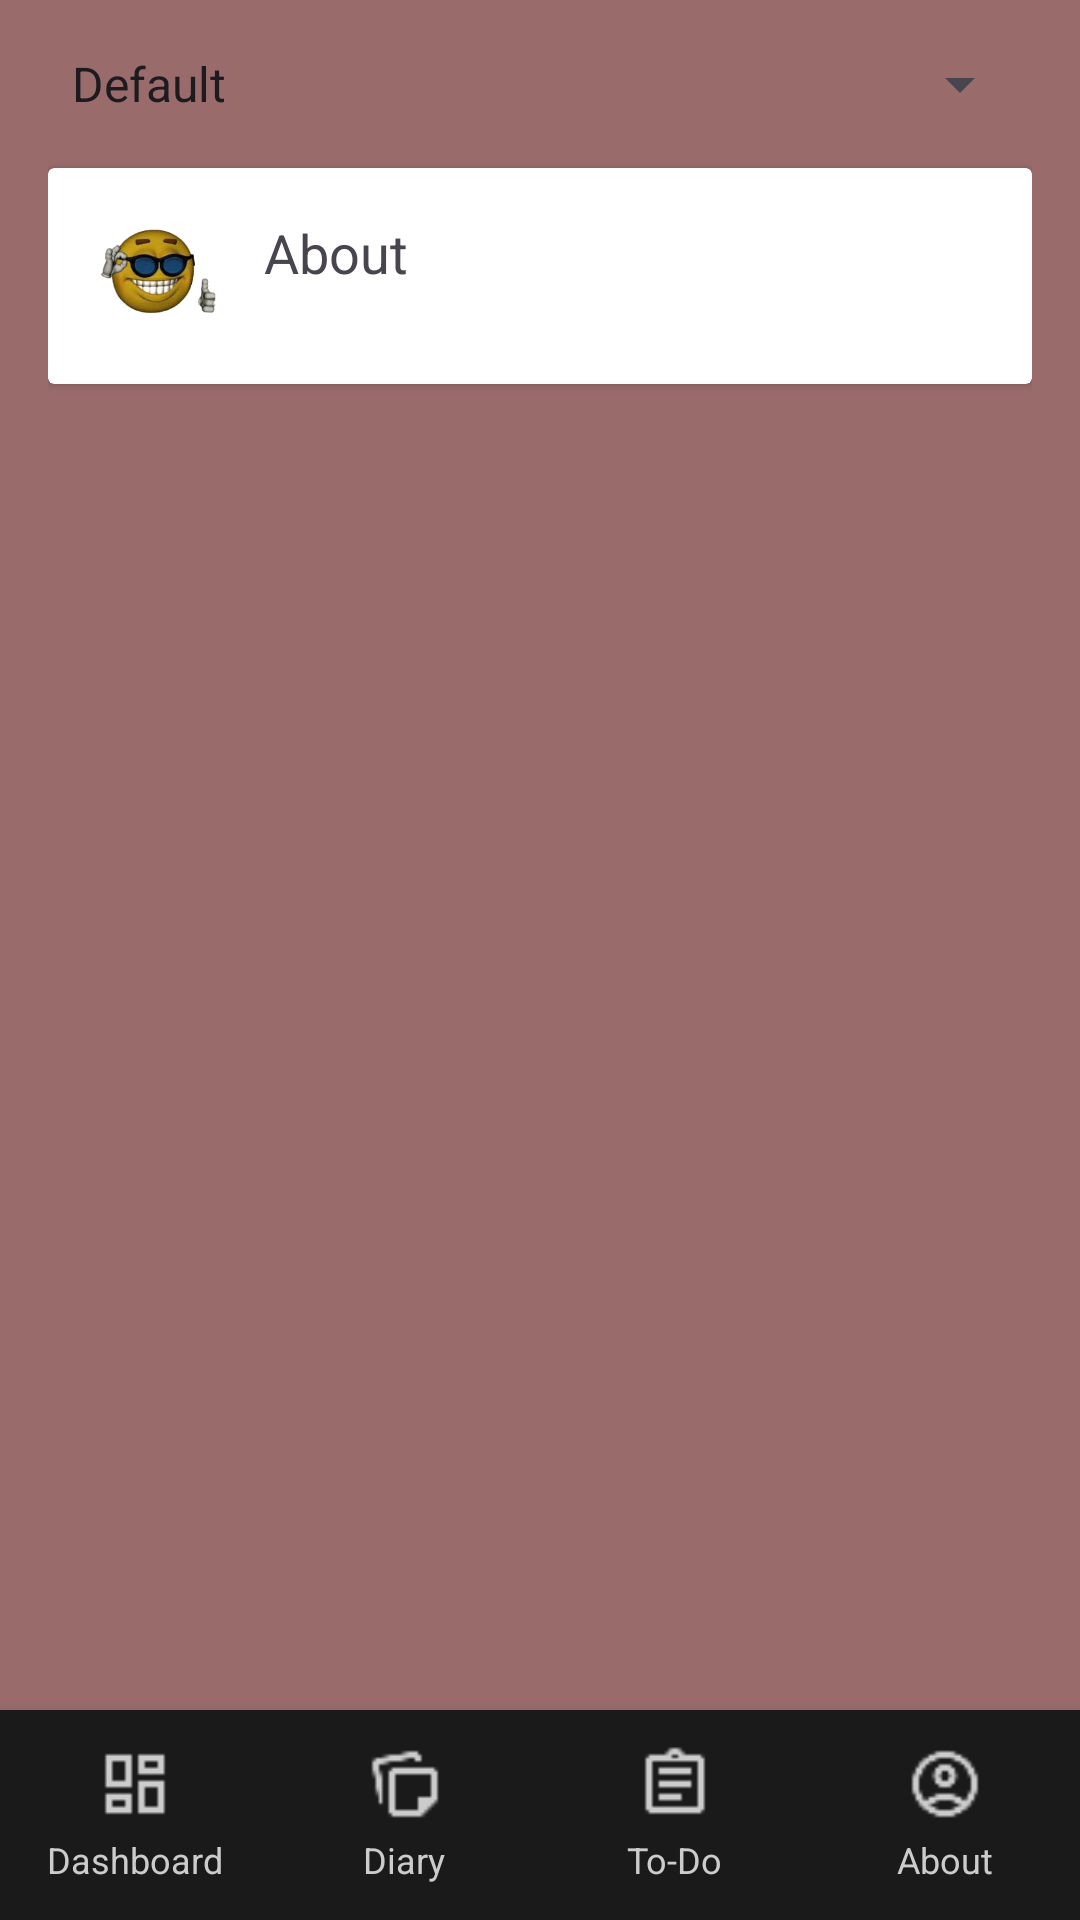

Where to tap for icons on this 1080px×1920px app screen, as [x,y]:
mood: [158,271]
